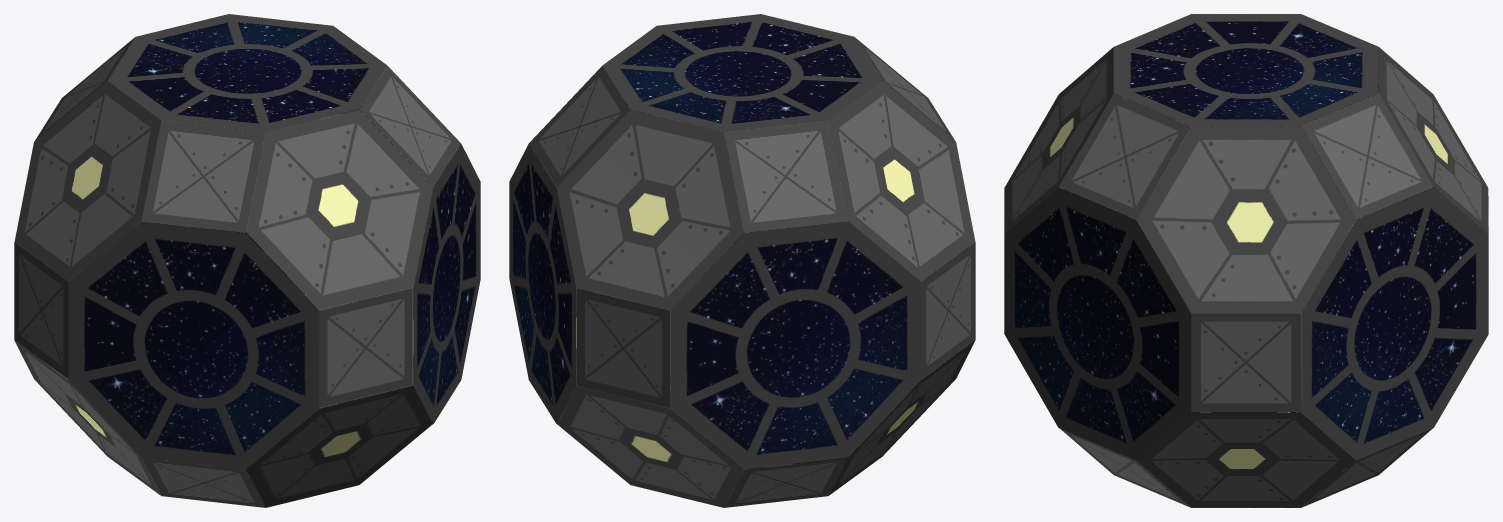
The model's file is Space_Arena_withTex.fbx.
3 renders of one model, left to right at view 1: azimuth 30°, elevation 25°; view 2: azimuth 150°, elevation 25°; view 3: azimuth 270°, elevation 25°, orthographic.
Parts seen in each view (by area): view 1: polySurface4; view 2: polySurface4; view 3: polySurface4.
Part boxes in pixels (x1,y1,x2,y2): polySurface4: [14, 14, 480, 507]; polySurface4: [509, 14, 975, 507]; polySurface4: [1004, 14, 1488, 507].
Size of the model in its own units: 3.37 by 2.94 by 3.38.
